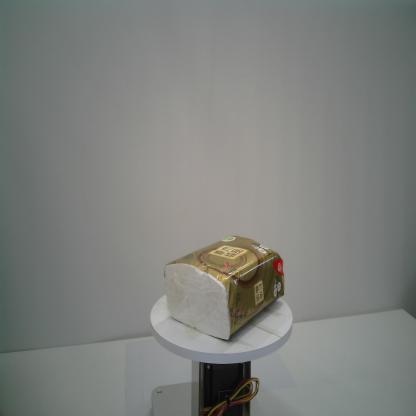Tissue: (164, 235, 285, 340)
